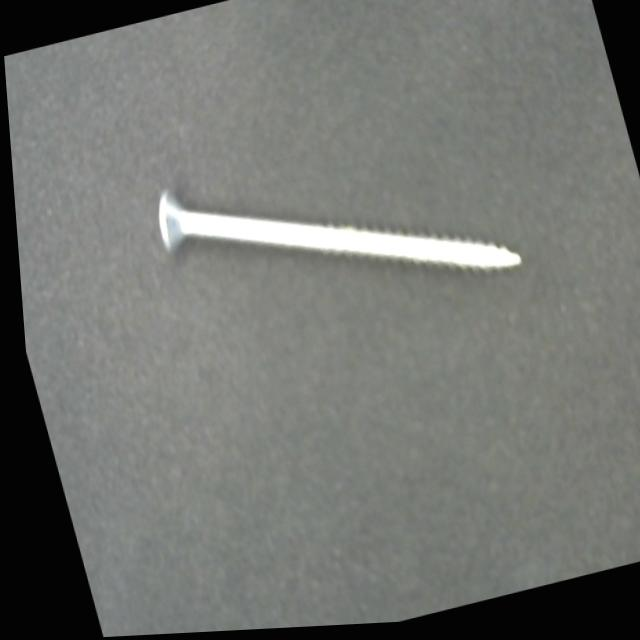WoodScrew: (140, 111, 525, 356)
